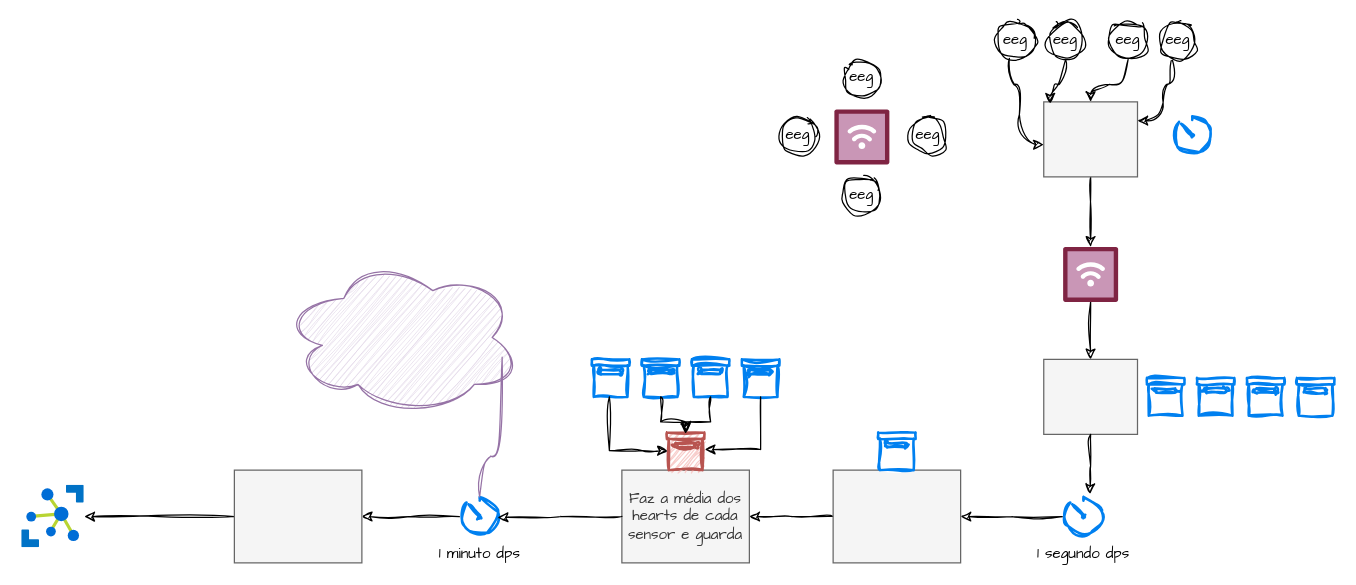
The diagram is 1356 pixels wide and 585 high, and some of its shapes have lost their labels. The centre of each missing label's shape, as x and y in pixels:
1 minuto é um valor de referência que vamos mandar para o broker: (402,337)
Envia os dados de microvolt: (1090,139)
Guarda os dados de cada sensor: (1090,396)
Milesegundos: (1191,135)
Pega a média de cada segundo (60 itens) e envia para o broker, o array de heartz: (297,516)
Transforma cada conjunto de dados em heartz: (896,516)
